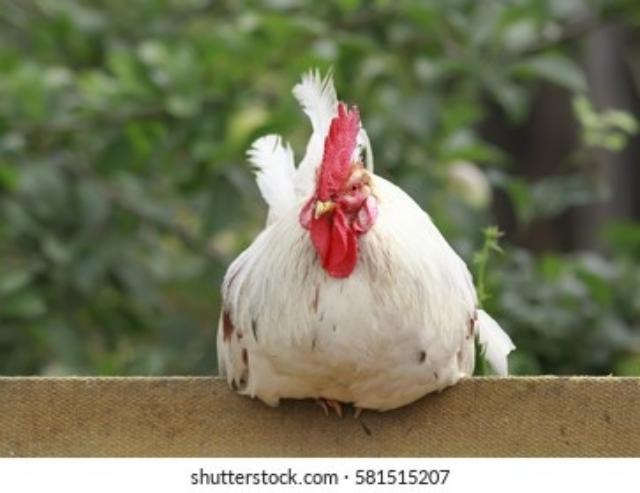Chicken: (216, 65, 480, 415)
